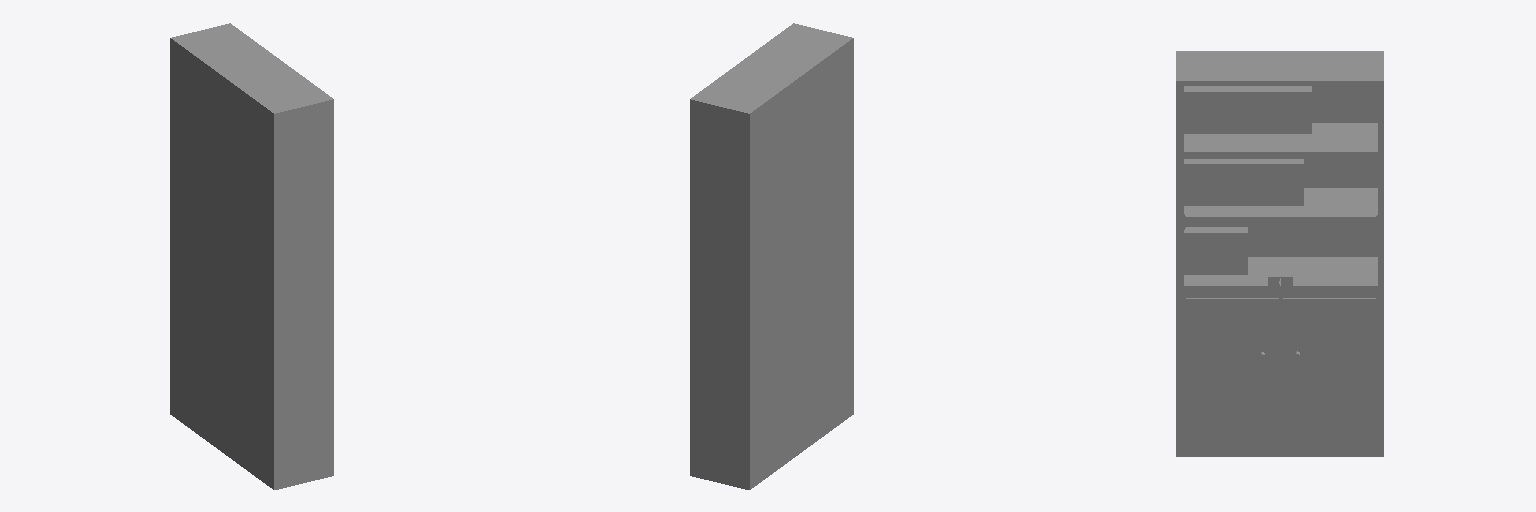
File: bookshelf.obj
3 views of the same model, side by side, from view 1: azimuth 30°, elevation 25°; view 2: azimuth 150°, elevation 25°; view 3: azimuth 270°, elevation 25° (orthographic).
Visible parts, largest first — view 1: Shelf_Body_Cube.001; view 2: Shelf_Body_Cube.001; view 3: Shelf_Body_Cube.001, Stack_Top_Cube.005, Stack_Middle_Cube.004, Stack_Bottom_Cube.003.
Boxes of the visible parts, x1=… form: Shelf_Body_Cube.001: x1=170, y1=23, x2=333, y2=489; Shelf_Body_Cube.001: x1=690, y1=23, x2=853, y2=489; Shelf_Body_Cube.001: x1=1176, y1=51, x2=1383, y2=456; Stack_Top_Cube.005: x1=1184, y1=86, x2=1311, y2=133; Stack_Middle_Cube.004: x1=1184, y1=159, x2=1303, y2=205; Stack_Bottom_Cube.003: x1=1184, y1=227, x2=1247, y2=274.
Size of the model in its own units: 67.3 by 360 by 180.